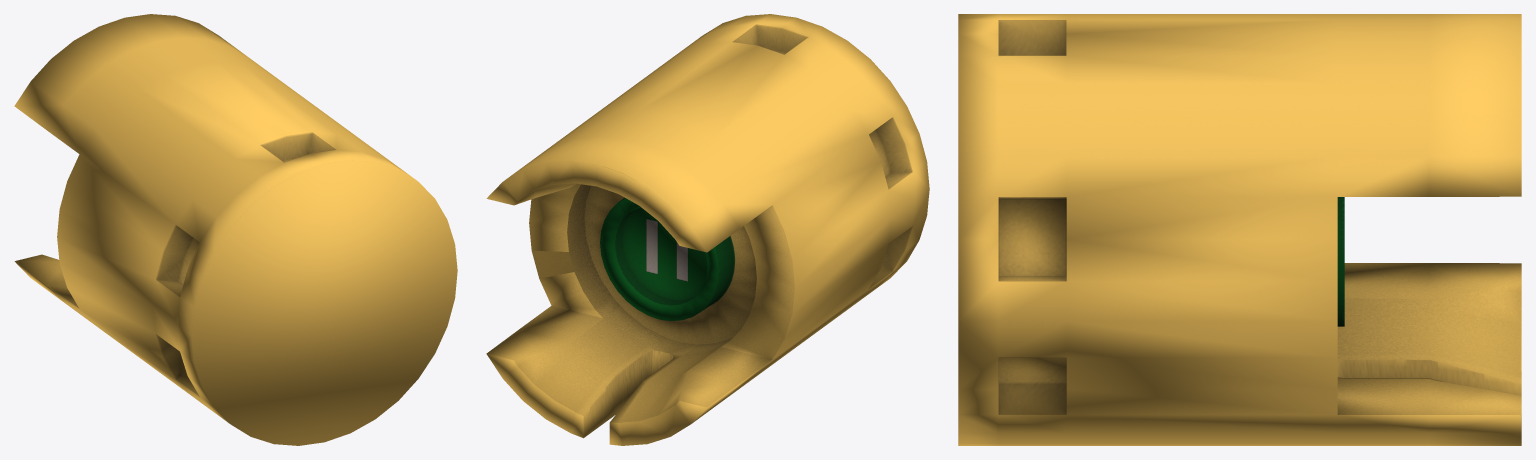
Rendered from Hybrid-Connector-Outer.dae.
The picture shows the model from 3 angles, left to right: view 1: azimuth 30°, elevation 25°; view 2: azimuth 150°, elevation 25°; view 3: azimuth 270°, elevation 25°; orthographic projection. The views are drawn at different scales.
Parts seen in each view (by area): view 1: Outer-Plug; view 2: Outer-Plug; view 3: Outer-Plug.
Part boxes in pixels (x1,y1,x2,y2): Outer-Plug: [14, 14, 457, 445]; Outer-Plug: [486, 14, 929, 445]; Outer-Plug: [958, 14, 1521, 445].
Bounding box in the file's own units: 1.31 × 1.7 × 1.31.
1 material, 1 textured.
